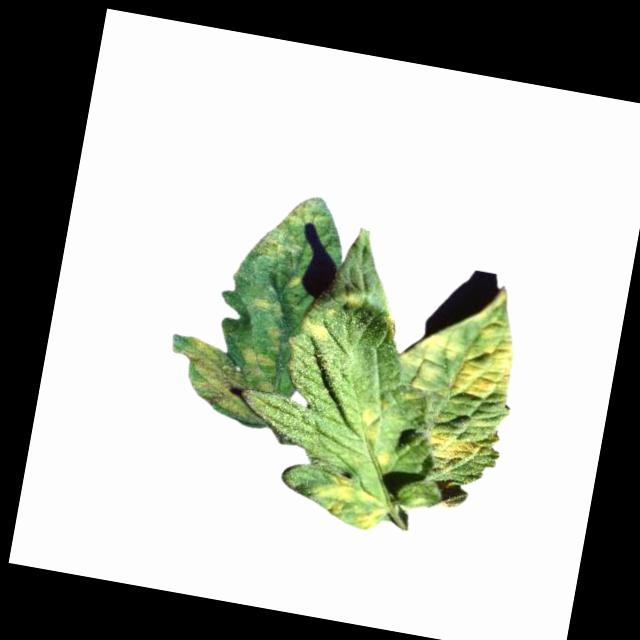Leaf_Mold: (394, 281, 529, 409), (174, 332, 281, 430), (305, 468, 390, 534), (250, 193, 325, 266), (424, 422, 483, 464), (356, 399, 387, 444), (299, 317, 340, 342), (337, 287, 370, 318), (370, 442, 400, 476), (251, 294, 285, 319), (288, 272, 306, 290)
